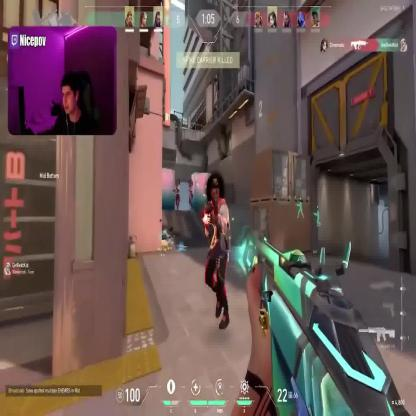enemy: (201, 172, 230, 330), (173, 179, 181, 209), (188, 179, 194, 210)
enemy_head: (206, 174, 224, 205), (175, 179, 180, 187), (189, 180, 193, 188)
